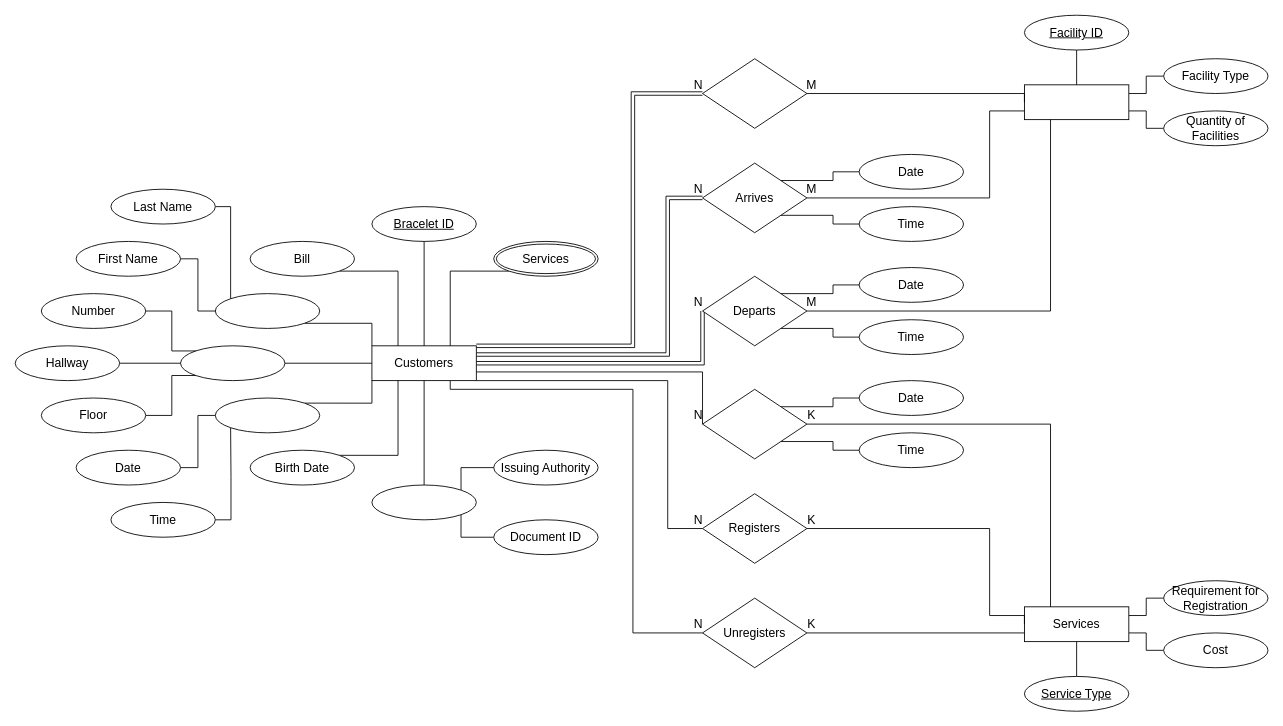
Image size: 1283x726. Some labels were removed from this diagram. Here are the shapes that lost their labels. From the top down, the box of each, then its label:
(702, 58, 807, 128): Has Access
(1024, 84, 1129, 120): Facilities
(214, 293, 320, 328): Name
(180, 345, 285, 381): Room
(214, 397, 320, 433): Arrival
(702, 388, 807, 459): Charges
(371, 484, 476, 520): Identification Document
